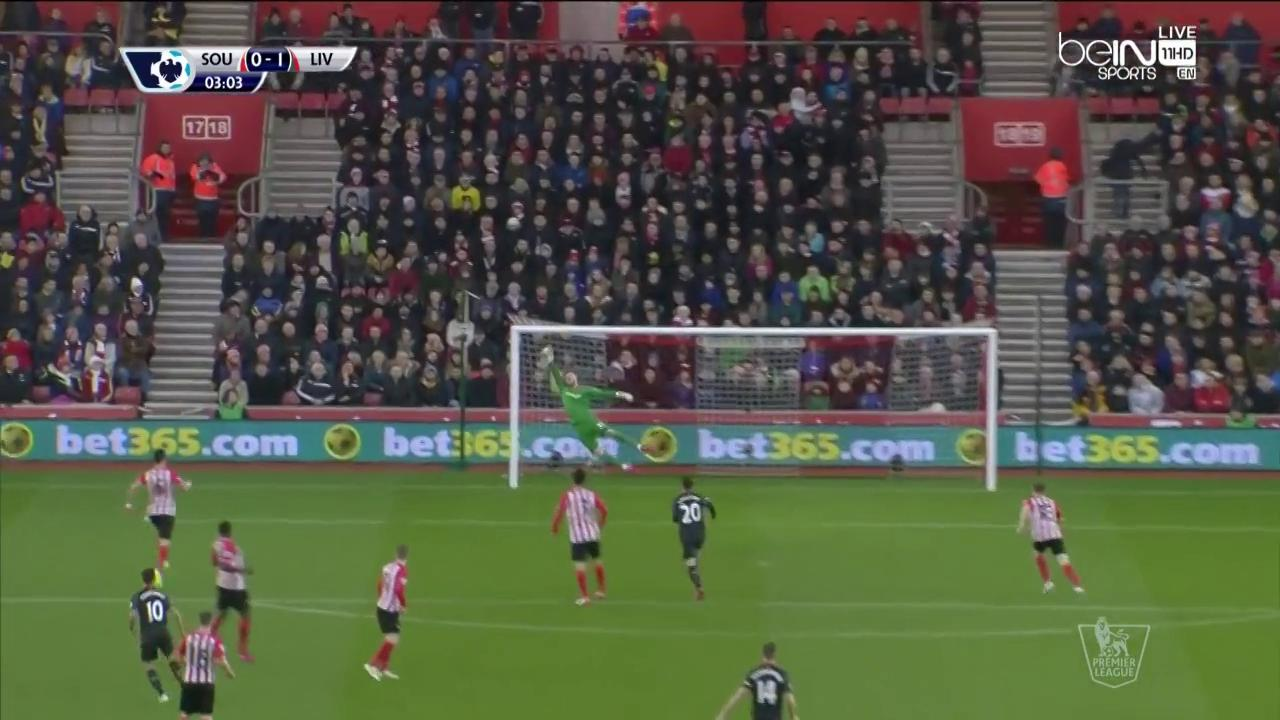football: (538, 344, 554, 365)
